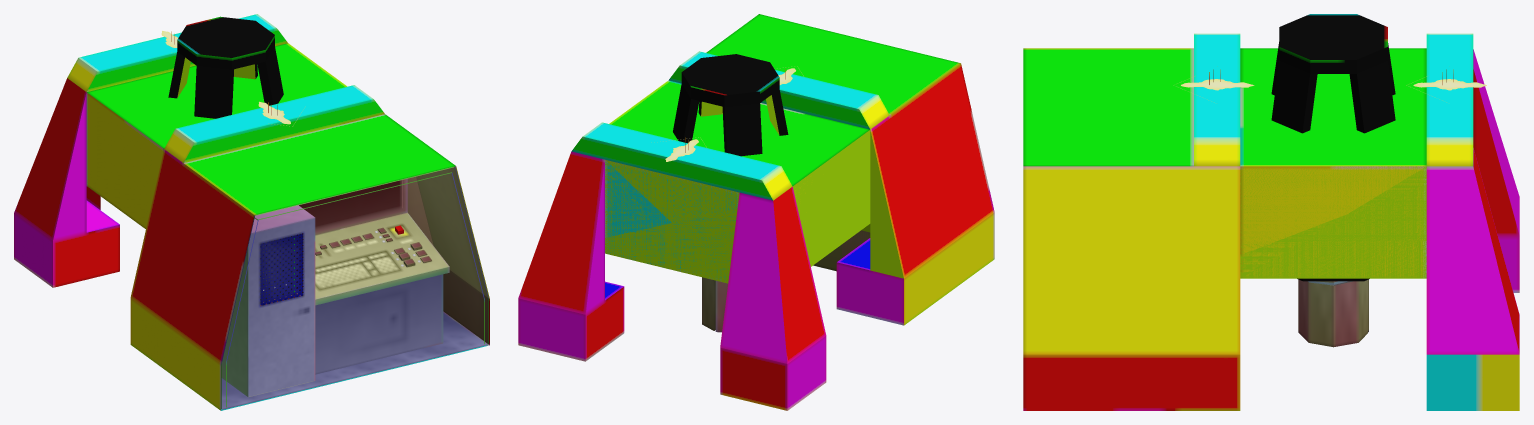
File: AutoMiner.obj
The picture shows the model from 3 angles, left to right: view 1: azimuth 30°, elevation 25°; view 2: azimuth 150°, elevation 25°; view 3: azimuth 270°, elevation 25°; orthographic projection. The views are drawn at different scales.
Parts seen in each view (by area): view 1: AutominerCore, AutominerGUI, ButtonsFixed; view 2: AutominerCore, MinerPipe; view 3: AutominerCore, MinerPipe, Gyro0Alpha, Gyro1Alpha.
Boxes of the visible parts, bbox=[...] form: AutominerCore: bbox=[14, 14, 489, 410]; AutominerGUI: bbox=[221, 178, 449, 397]; ButtonsFixed: bbox=[315, 225, 427, 267]; AutominerCore: bbox=[518, 14, 994, 410]; MinerPipe: bbox=[702, 277, 727, 332]; AutominerCore: bbox=[1023, 14, 1519, 410]; MinerPipe: bbox=[1298, 279, 1368, 347]; Gyro0Alpha: bbox=[1406, 76, 1486, 102]; Gyro1Alpha: bbox=[1173, 76, 1254, 102].
Size of the model in its own units: 3 by 2.62 by 4.
3 materials, 2 textured.
